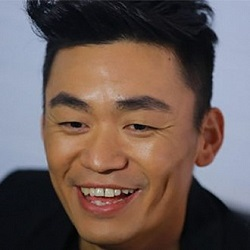unmask: (37, 71, 182, 245)
